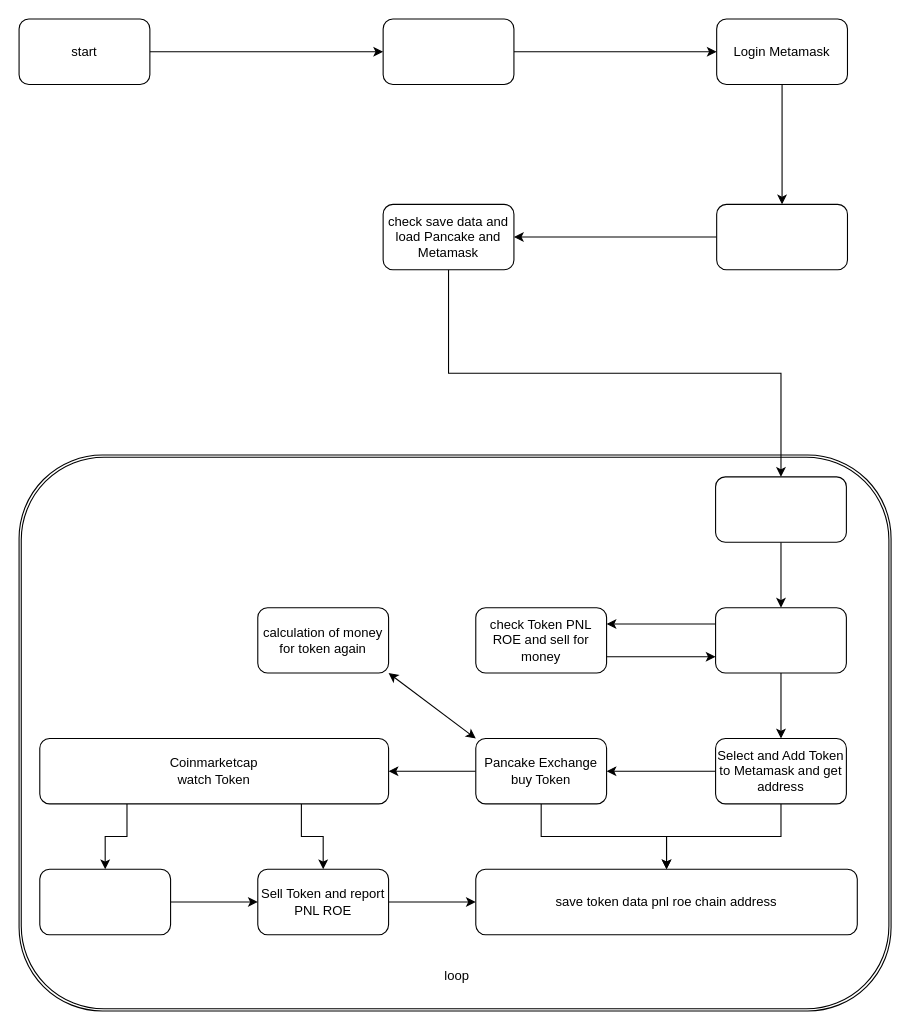
Image size: 910x1030. Some labels were removed from this diagram. The box of each missing label's shape, as (x1, y1, x2, y2) in pixels:
calculation of money for token: (714, 607, 846, 673)
Coinmarketcap get new list today: (714, 476, 846, 542)
Create and report Profit and loss graph: (39, 868, 171, 935)
Pancakeswap Connect to Metamask: (716, 203, 847, 270)
user select PNL ROE,max min Money, vs: (382, 18, 514, 84)
